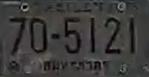0: (29, 16, 47, 52)
1: (128, 18, 134, 52), (89, 17, 94, 52)
2: (104, 16, 120, 53)
5: (64, 16, 81, 53)
7: (9, 15, 26, 54)
SKN: (38, 57, 114, 74)
